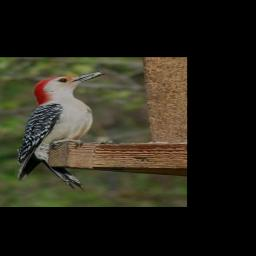Woodpecker: (18, 70, 108, 191)
